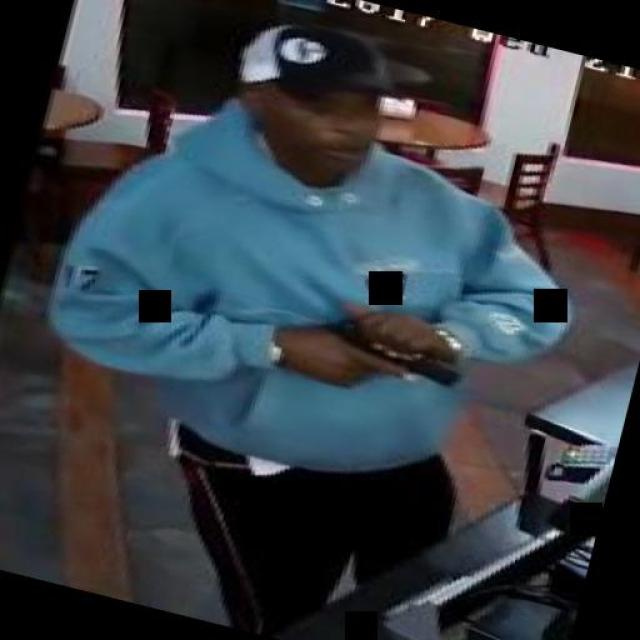gun: (296, 310, 469, 414)
